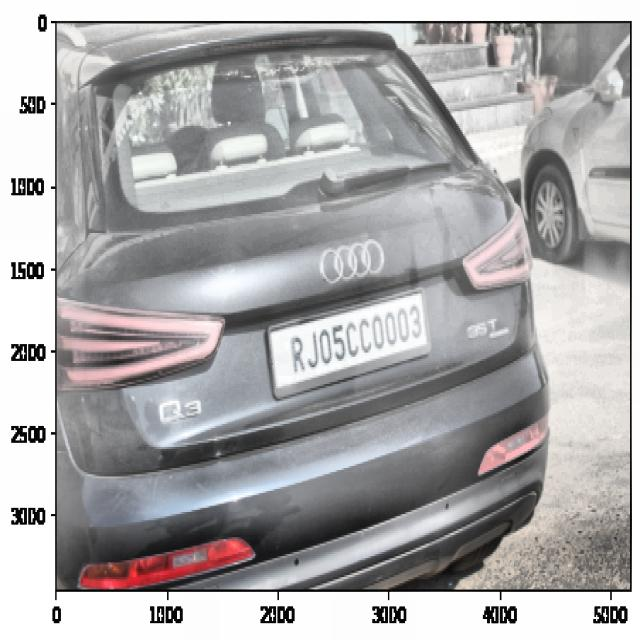license_plate: (287, 297, 426, 382)
